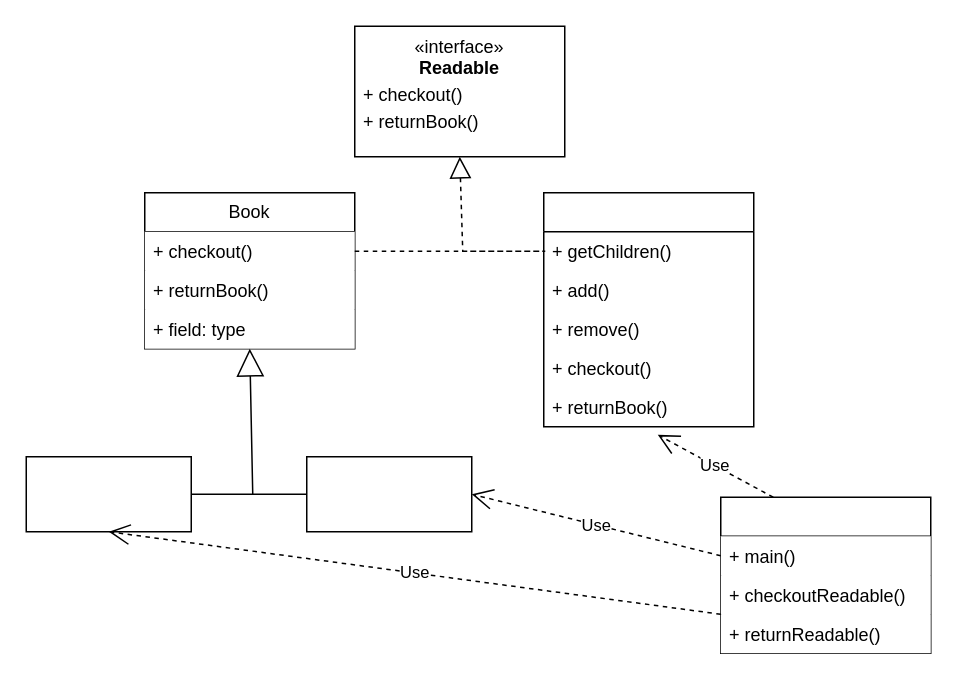
Image size: 957x684. Some labels were removed from this diagram. Each missing label, with the box of its shape:
BookCollection: (542, 191, 754, 427)
FictionBook: (25, 455, 191, 532)
LibraryClient: (719, 496, 931, 653)
NonfictionBook: (305, 455, 472, 532)
